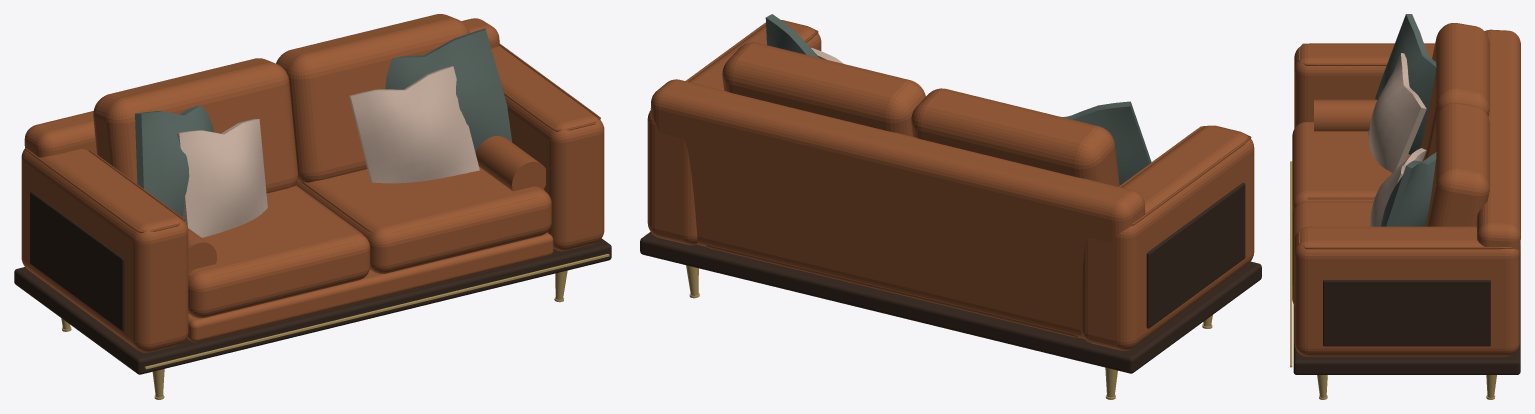
Rendered from milano-cognac-2.glb.
The picture shows the model from 3 angles, left to right: view 1: azimuth 30°, elevation 25°; view 2: azimuth 150°, elevation 25°; view 3: azimuth 270°, elevation 25°; orthographic projection. The views are drawn at different scales.
Size of the model in its own units: 1.7 by 0.8344 by 0.7932.
